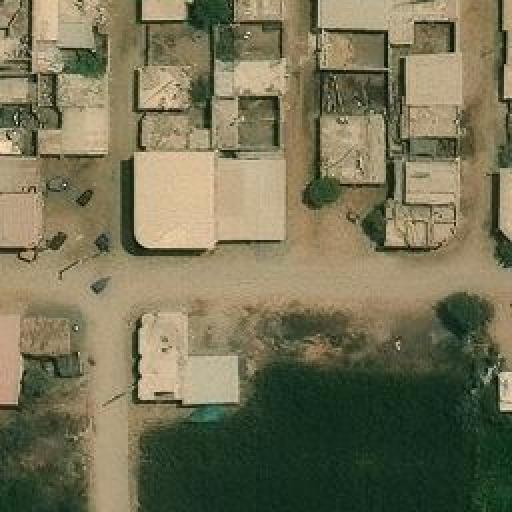manzanas: (135, 0, 291, 255), (315, 0, 460, 257), (0, 0, 115, 255), (129, 299, 248, 416), (0, 315, 92, 413)
